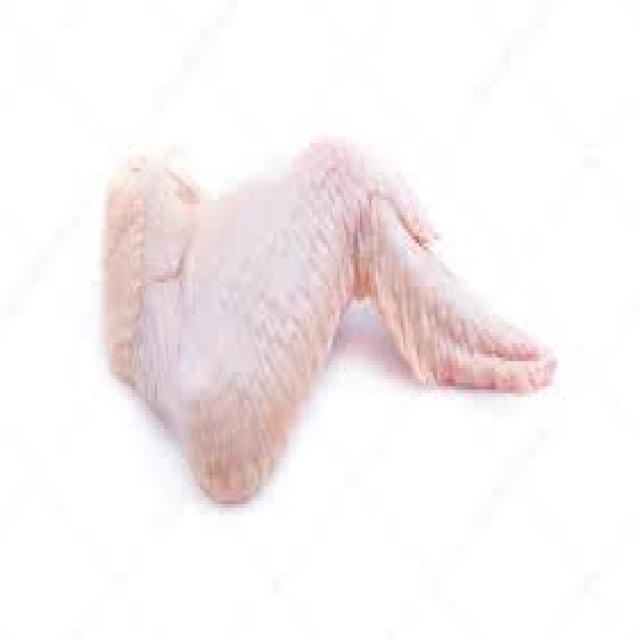wing: (95, 141, 557, 508)
